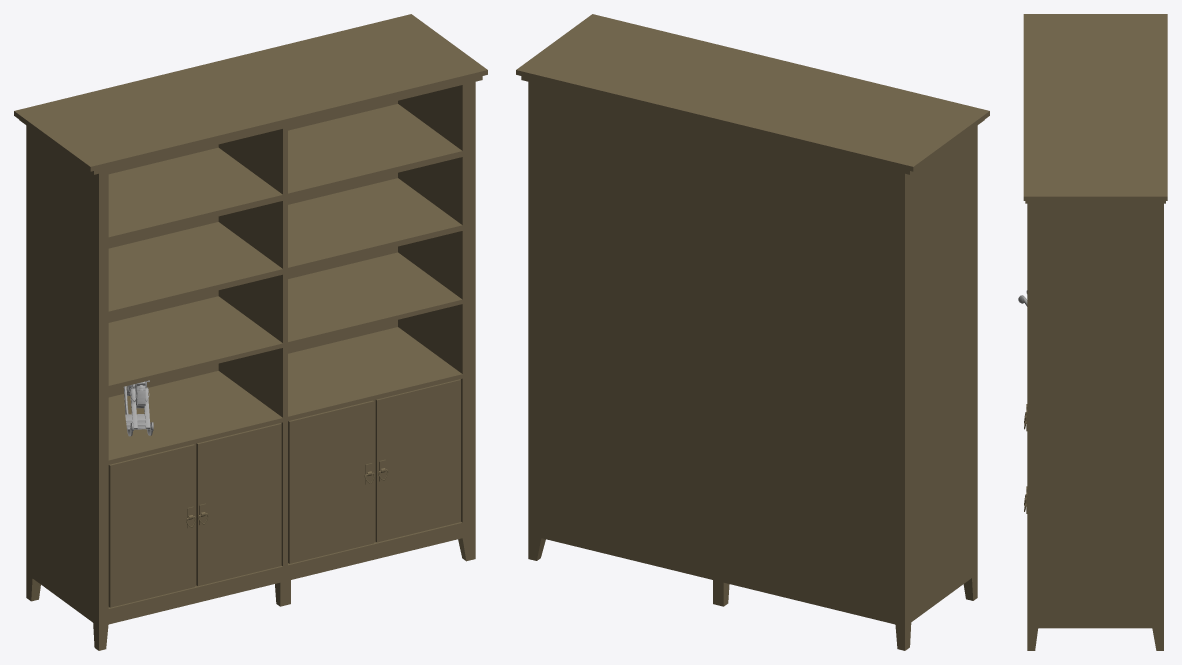
Rendered from RockingHorse.fbx.
The picture shows the model from 3 angles, left to right: view 1: azimuth 30°, elevation 25°; view 2: azimuth 150°, elevation 25°; view 3: azimuth 270°, elevation 25°; orthographic projection. The views are drawn at different scales.
Visible parts, largest first — view 1: bookshelf_low_03, RockingHorse; view 2: bookshelf_low_03; view 3: bookshelf_low_03.
Boxes of the visible parts, <box> form: bookshelf_low_03: <box>14,14,487,650</box>; RockingHorse: <box>123,380,153,436</box>; bookshelf_low_03: <box>516,14,989,650</box>; bookshelf_low_03: <box>1023,14,1167,650</box>.
Bounding box in the file's own units: 1.86 × 2.19 × 0.6446.
